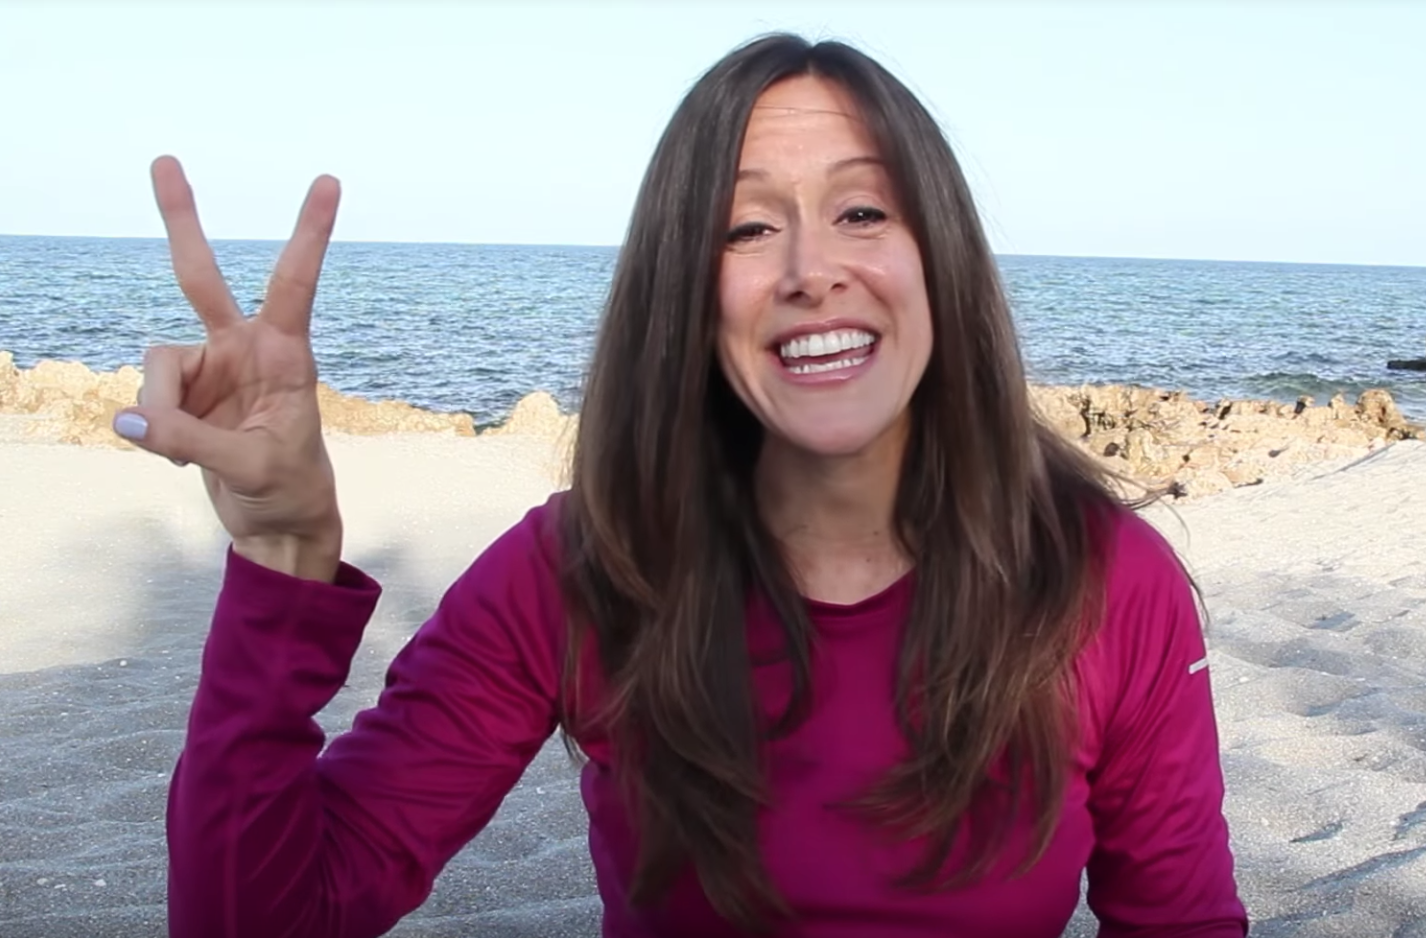v: (102, 142, 415, 611)
